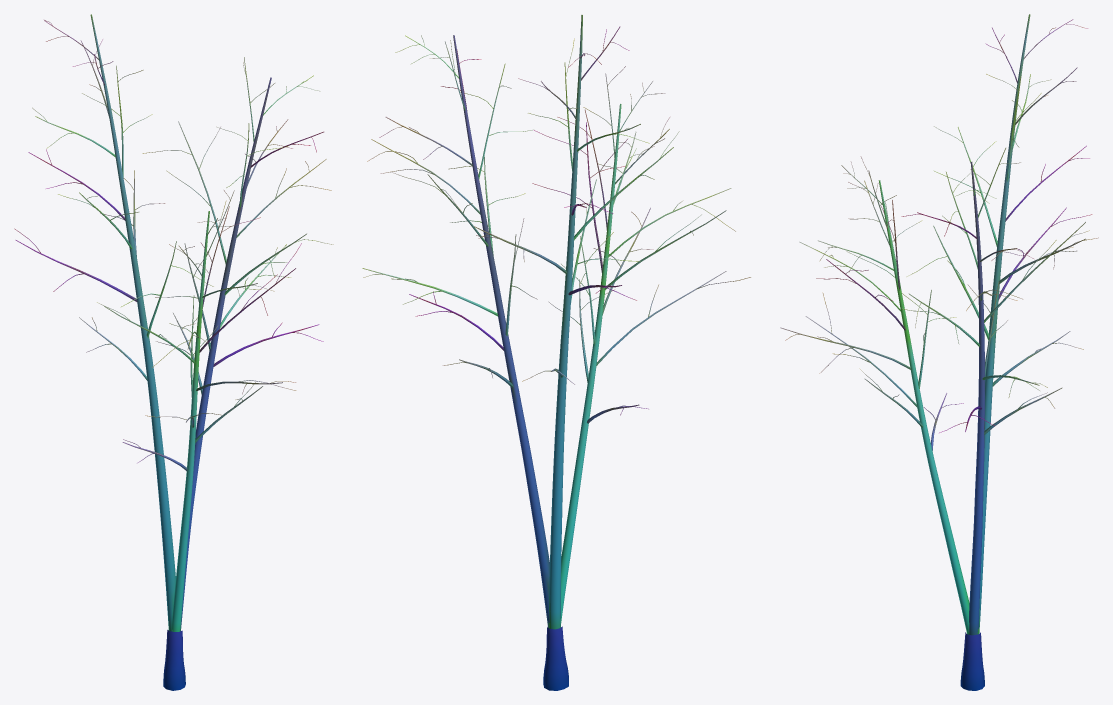
Rendered from birch-grove-c.glb.
The picture shows the model from 3 angles, left to right: view 1: azimuth 30°, elevation 25°; view 2: azimuth 150°, elevation 25°; view 3: azimuth 270°, elevation 25°; orthographic projection. The views are drawn at different scales.
Visible parts, largest first — view 1: bark; view 2: bark; view 3: bark.
Part boxes in pixels (bbox=[...]): bark: bbox=[14, 14, 333, 690]; bark: bbox=[362, 15, 750, 690]; bark: bbox=[780, 14, 1098, 690].
Bounding box in the file's own units: 7.52 × 17.17 × 7.67.
